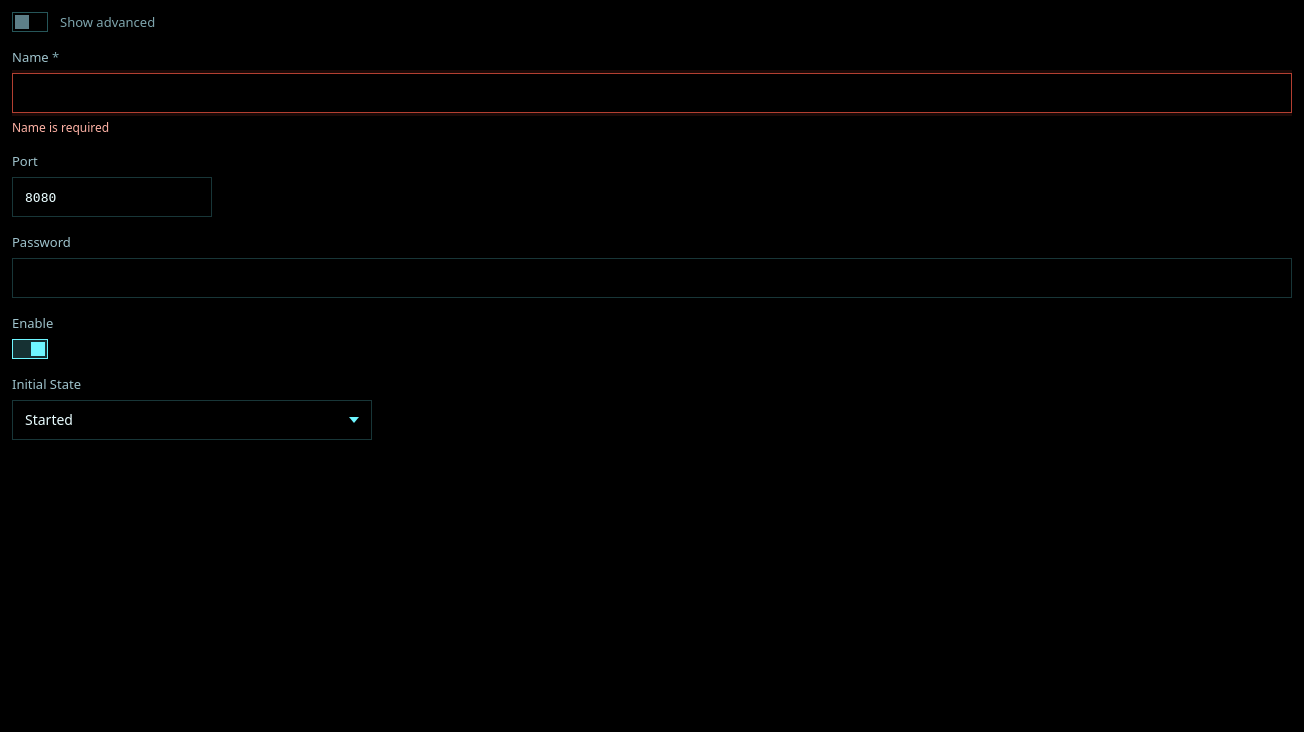
Test: SchemaForm rendering › hides advanced fields until "Show advanced" is switched on
Expected: the field labelled "URL Base" is not shown
Click the switch labelled "Show advanced": [84, 22] box [12,12,155,32]
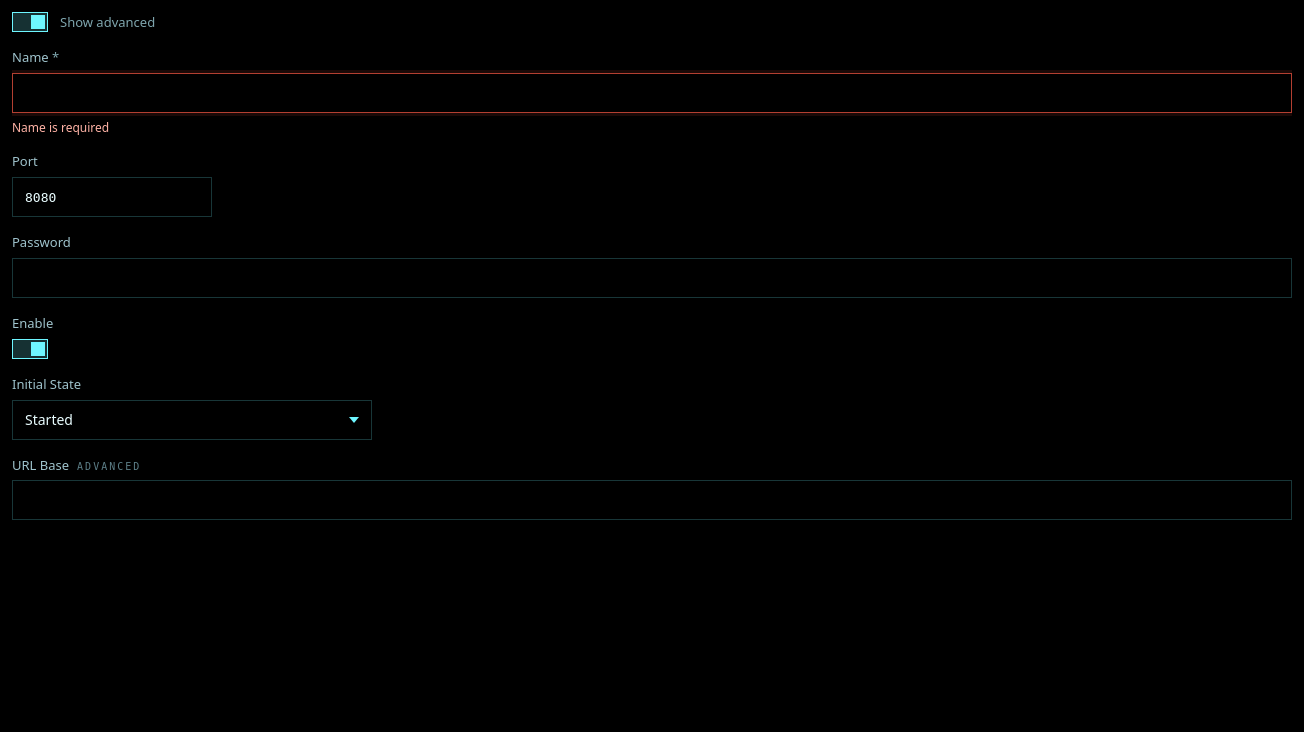
Result: the field labelled "URL Base" is shown at [12,480,1292,520]
